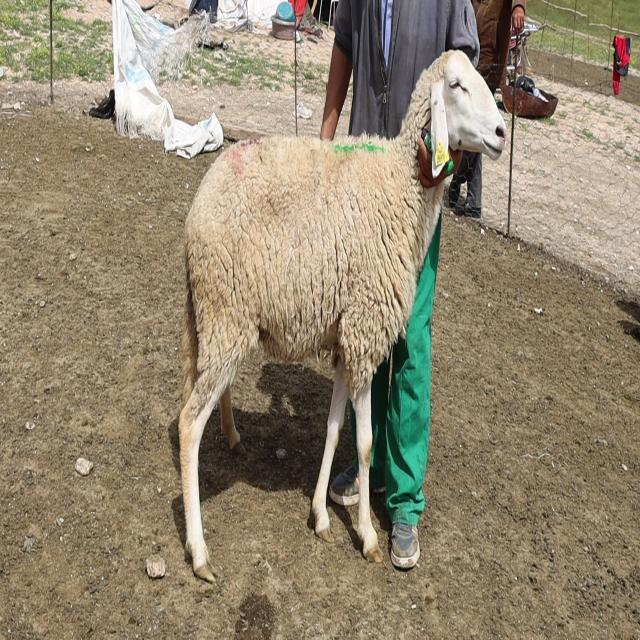Score_1: (179, 50, 506, 581)
